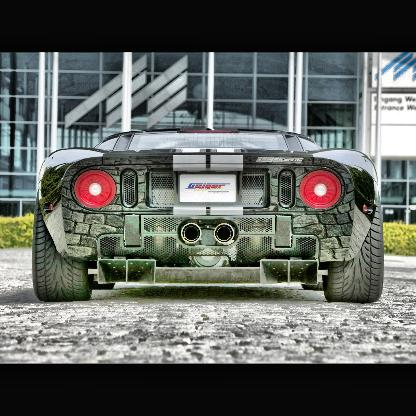Ford GT Coupe 2006: (33, 131, 385, 306)
